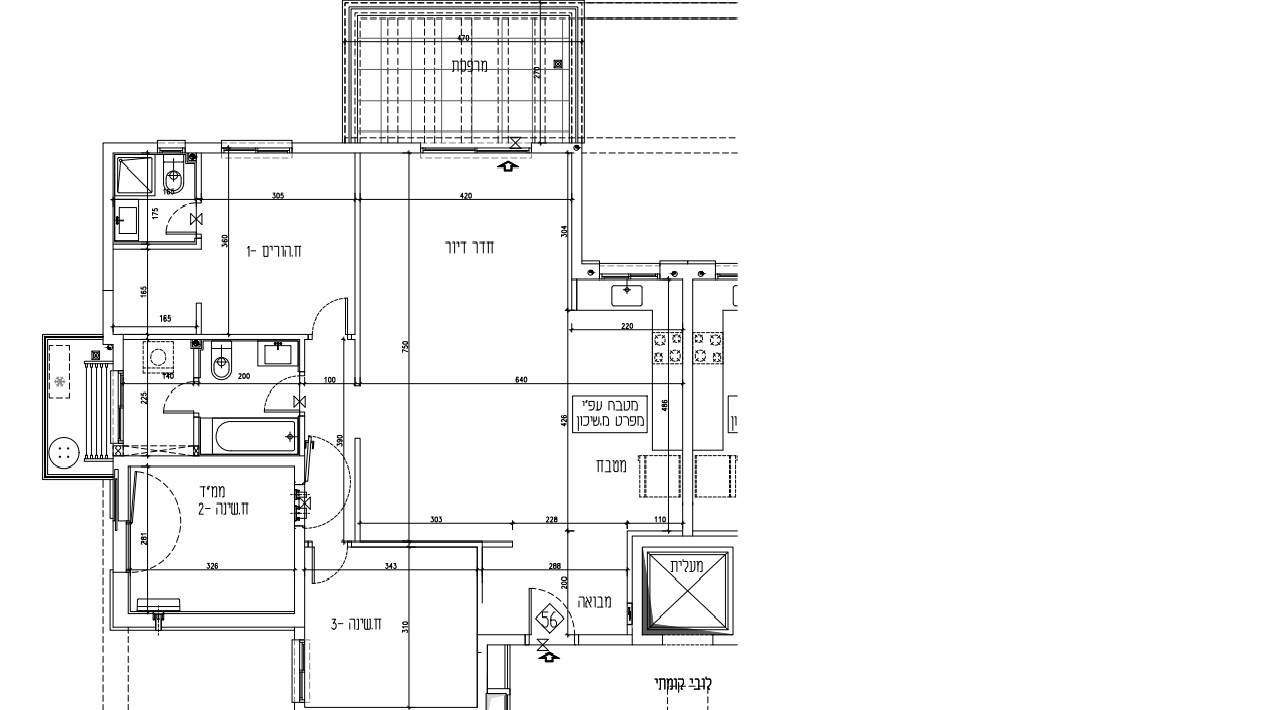door: (308, 287, 352, 330), (308, 553, 351, 597), (252, 375, 290, 415), (158, 380, 189, 426)
window: (420, 142, 531, 160), (222, 140, 294, 158), (600, 270, 659, 282)
